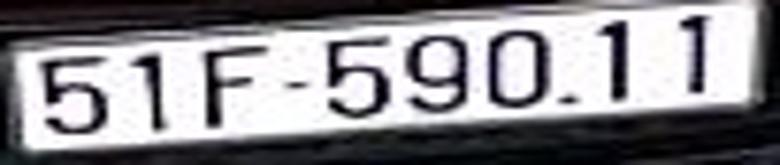-: (285, 83, 306, 89)
.: (561, 97, 573, 103)
0: (488, 30, 546, 106)
1: (136, 57, 165, 128), (681, 12, 706, 93), (604, 19, 627, 100)
5: (44, 57, 109, 134), (329, 40, 390, 117)
9: (408, 36, 468, 111)
F: (206, 45, 269, 127)
